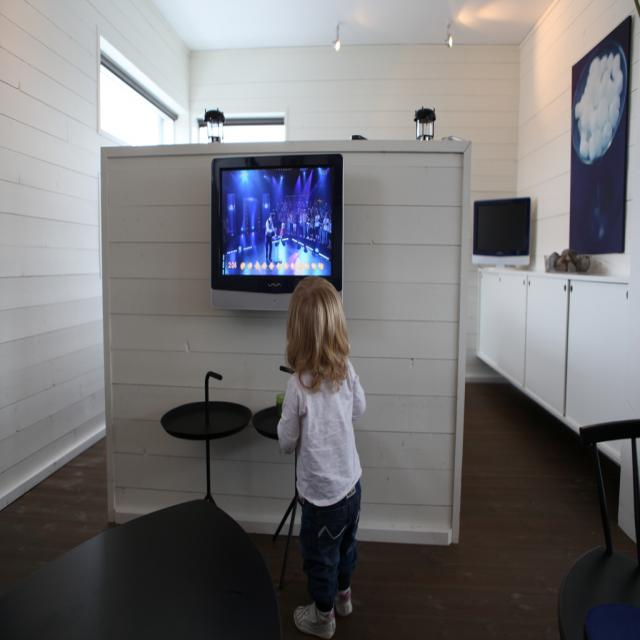desk: (470, 230, 636, 596)
person: (278, 272, 367, 635)
tv: (210, 152, 343, 308), (472, 195, 532, 266)
